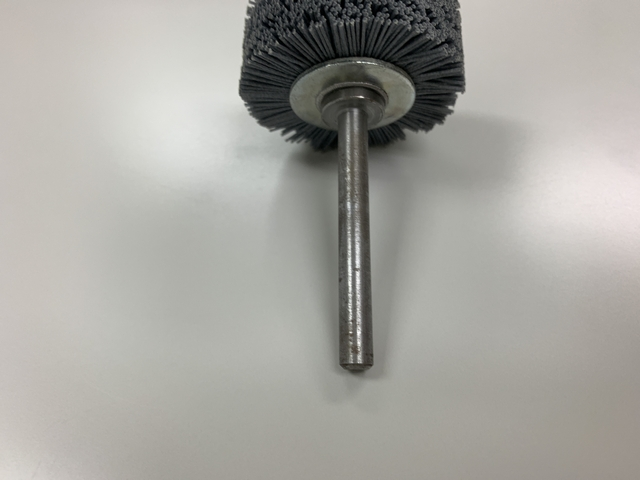Wheel Brush: (220, 3, 509, 389), (243, 1, 443, 384)
